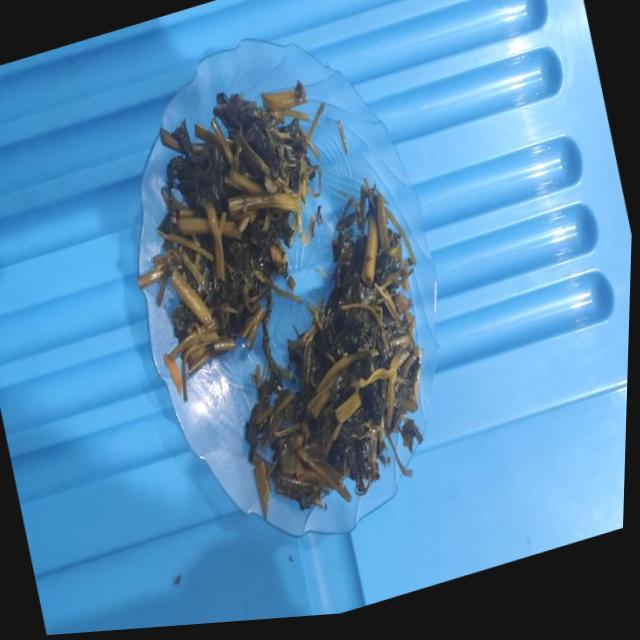tumis_kangkung: (245, 191, 422, 514), (154, 92, 324, 374)
